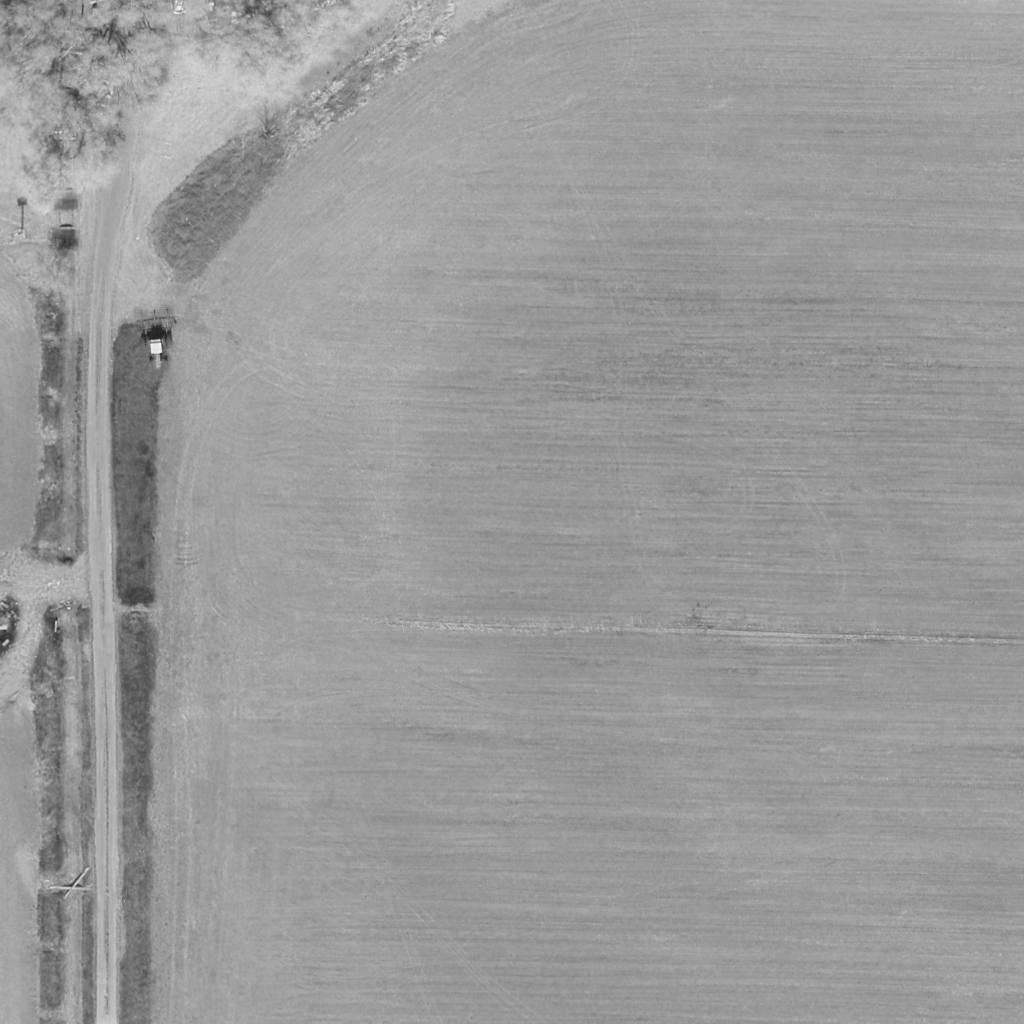vehicle: (133, 318, 183, 372)
